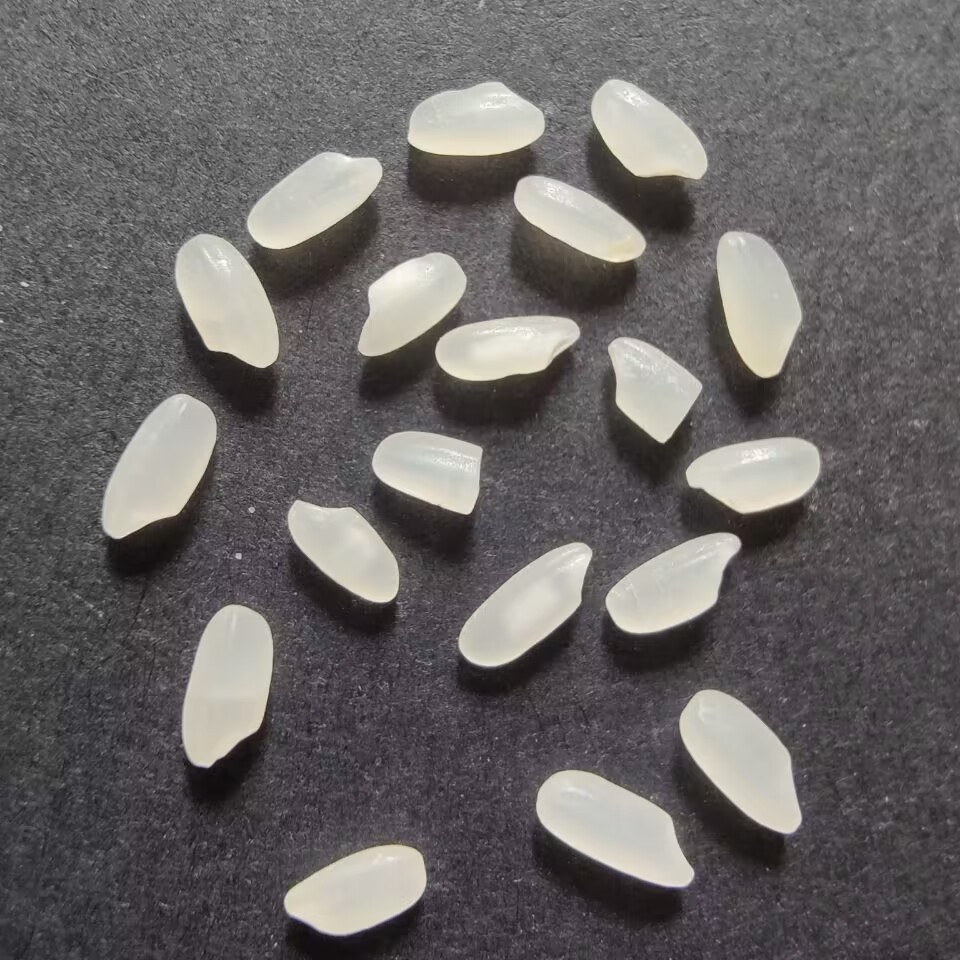broken: (602, 333, 708, 446), (368, 426, 489, 518)
rice: (528, 765, 698, 891), (94, 387, 221, 548), (677, 687, 810, 840), (455, 537, 598, 673), (173, 601, 282, 774), (169, 231, 287, 374), (243, 147, 388, 255), (599, 531, 744, 638), (279, 841, 434, 941), (710, 225, 806, 381), (282, 495, 406, 609), (352, 249, 471, 363), (586, 73, 708, 184), (511, 173, 649, 265), (400, 76, 550, 159), (680, 434, 823, 520), (432, 311, 588, 385)
